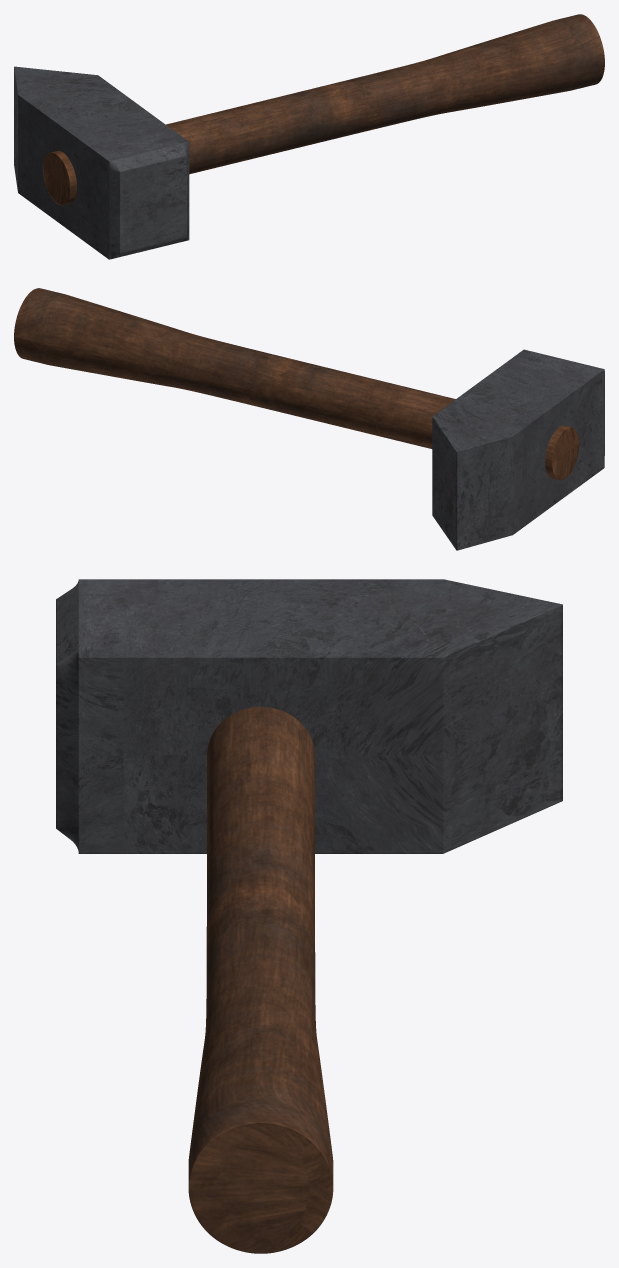
File: foam_anvil.glb
3 views of the same model, one above another, from view 1: azimuth 30°, elevation 25°; view 2: azimuth 150°, elevation 25°; view 3: azimuth 270°, elevation 25° (orthographic). The views are drawn at different scales.
Parts seen in each view (by area): view 1: Hamm, PM3D_Sphere3D1; view 2: Hamm, PM3D_Sphere3D1; view 3: PM3D_Sphere3D1, Hamm.
Boxes of the visible parts, <box> form: Hamm: <box>43,14,604,205</box>; PM3D_Sphere3D1: <box>14,66,189,259</box>; Hamm: <box>14,288,579,480</box>; PM3D_Sphere3D1: <box>432,349,604,550</box>; PM3D_Sphere3D1: <box>56,579,562,853</box>; Hamm: <box>188,706,333,1253</box>.
Size of the model in its own units: 0.5835 by 0.1034 by 0.2416.
2 materials, 2 textured.
